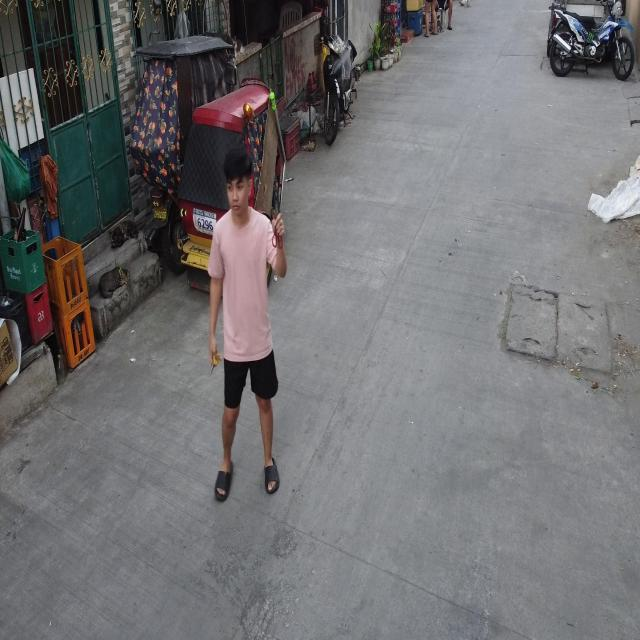scissor: (272, 204, 283, 249), (210, 354, 220, 376)
